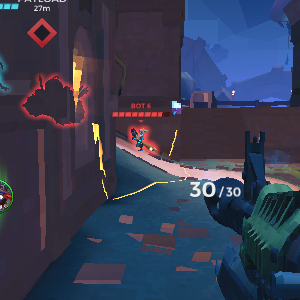model: (132, 125, 151, 157)
